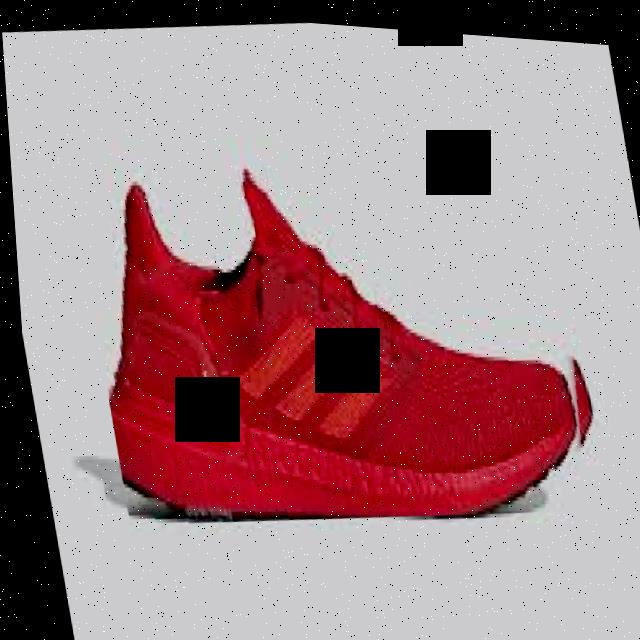shoe: (66, 123, 609, 551)
